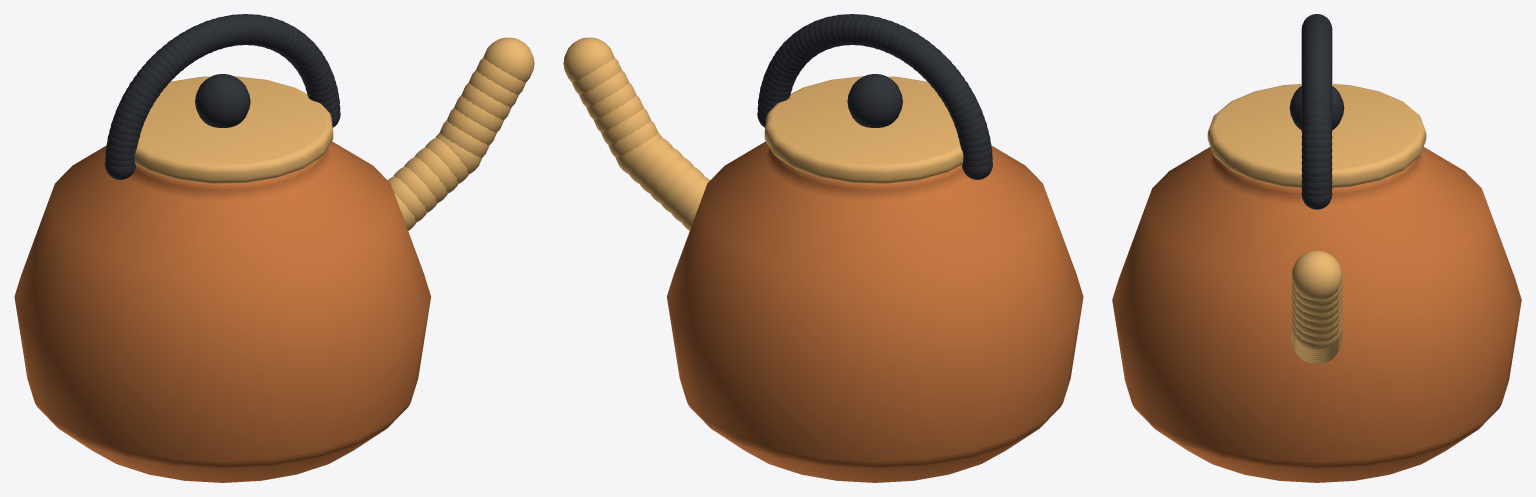
File: kettle.glb
The picture shows the model from 3 angles, left to right: view 1: azimuth 30°, elevation 25°; view 2: azimuth 150°, elevation 25°; view 3: azimuth 270°, elevation 25°; orthographic projection.
Parts seen in each view (by area): view 1: kettle; view 2: kettle; view 3: kettle.
Boxes of the visible parts, box(x1,y1,x2,y2) form: kettle: box(14, 14, 534, 482); kettle: box(563, 14, 1083, 482); kettle: box(1112, 14, 1521, 482).
Size of the model in its own units: 1.62 by 1.28 by 1.2.
